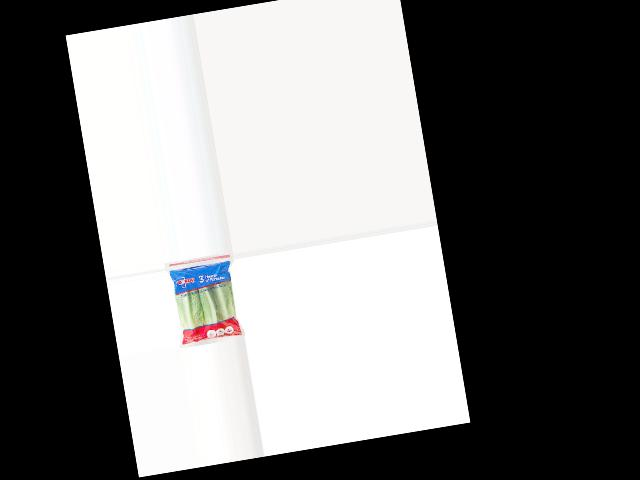lettuce: (165, 257, 243, 348)
